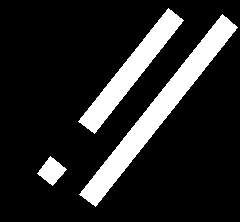parkingspot: (79, 14, 237, 206), (78, 8, 183, 133), (37, 156, 66, 185)
